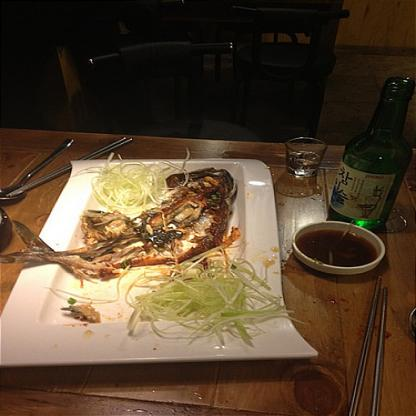Peixe: (0, 158, 241, 287)
